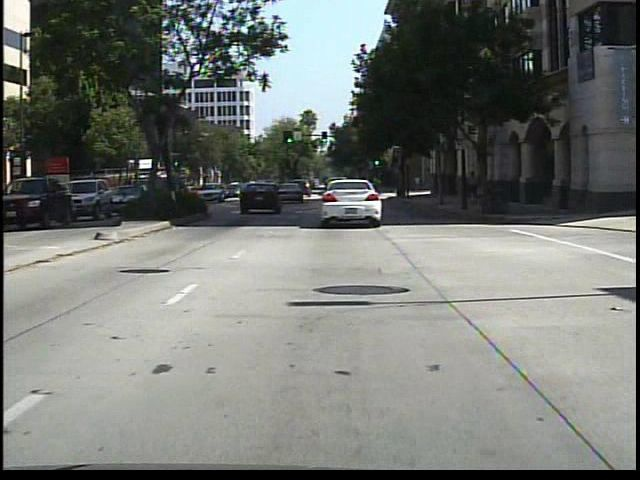person: (467, 165, 485, 208)
